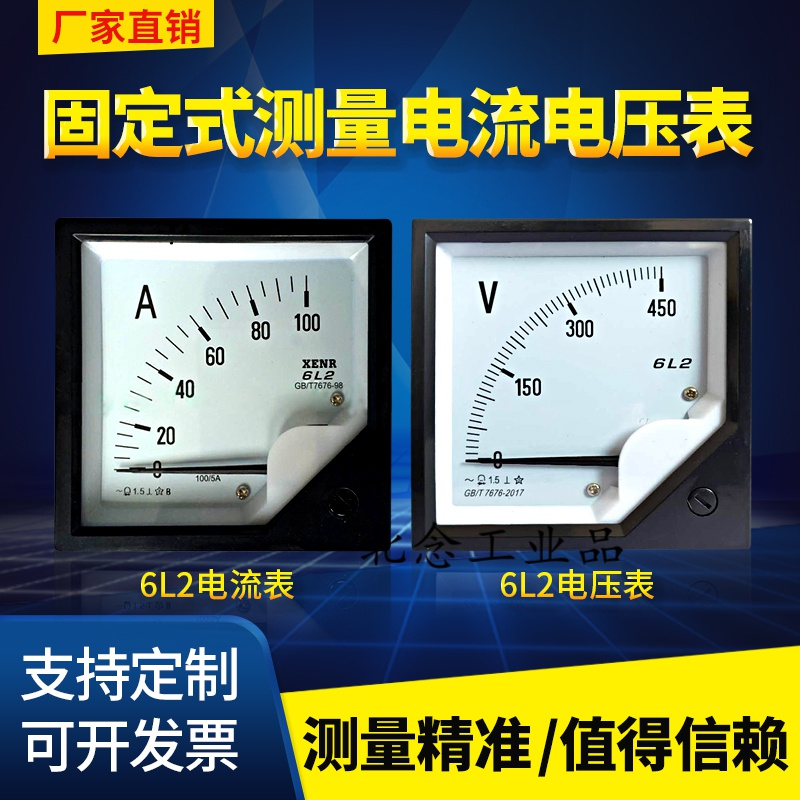pointer: (76, 230, 367, 530), (430, 238, 724, 527)
